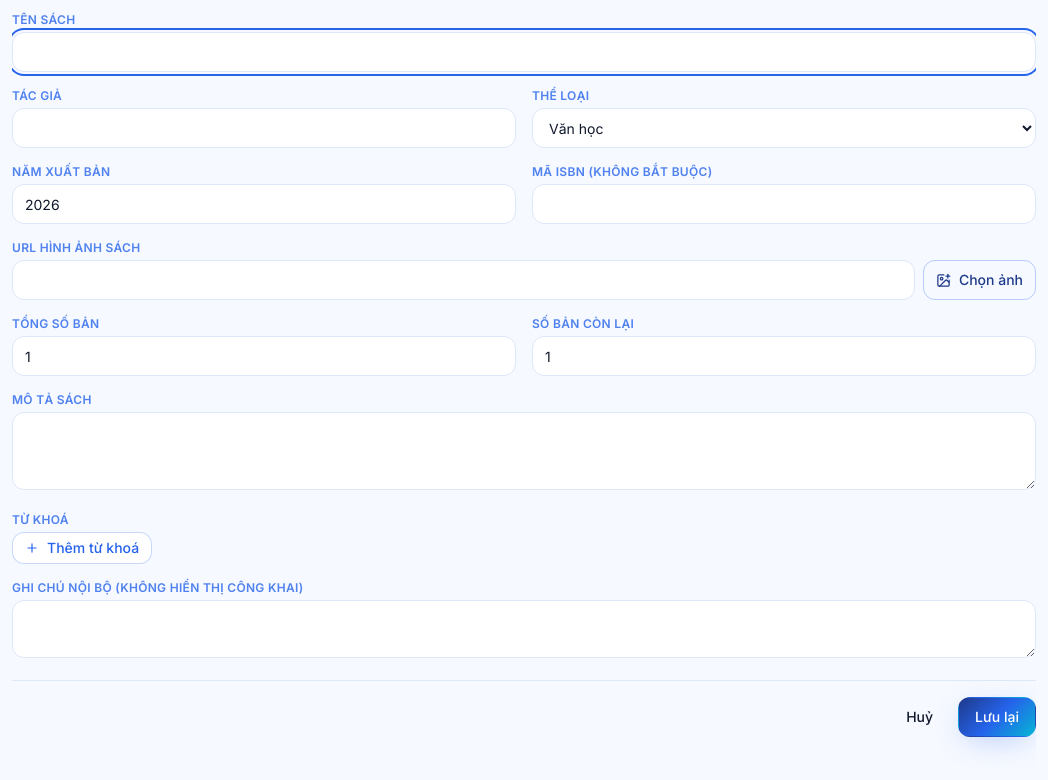
it: BookForm › shows validation errors when required fields are empty
The image size is (1048, 780).
Step 1. Clear the field labelled "Tác giả" → (264, 128), box [12,108,516,148]
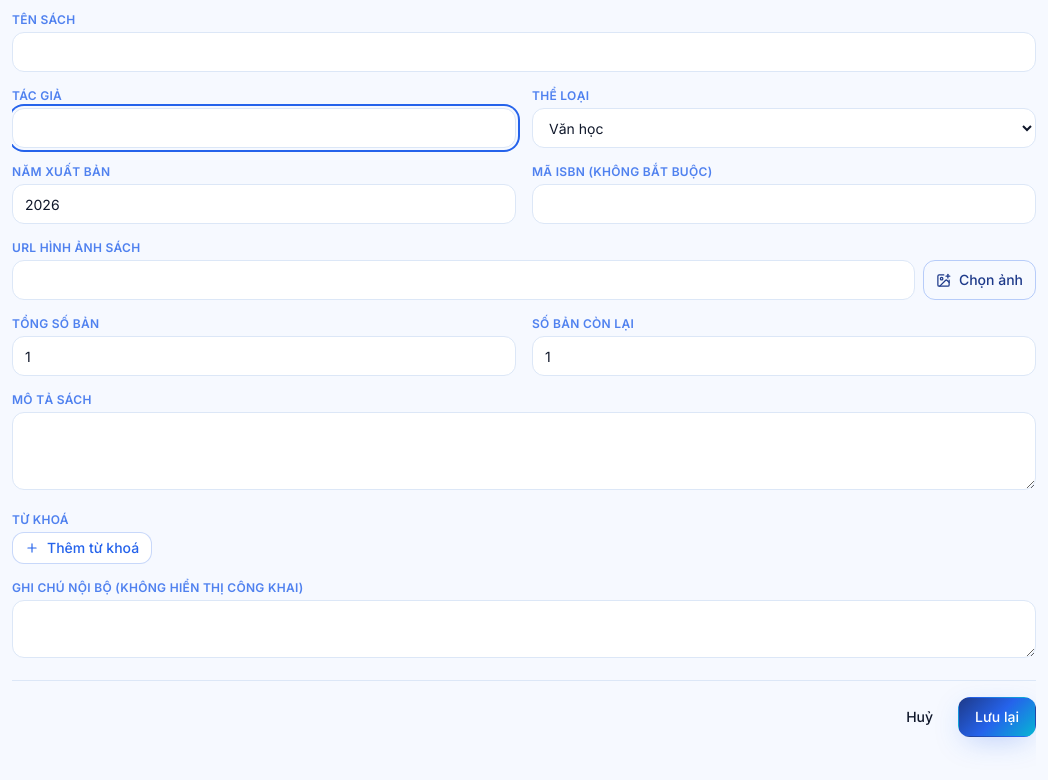
Step 2. Click the button "Lưu lại" → click(997, 717), box [958,697,1036,737]
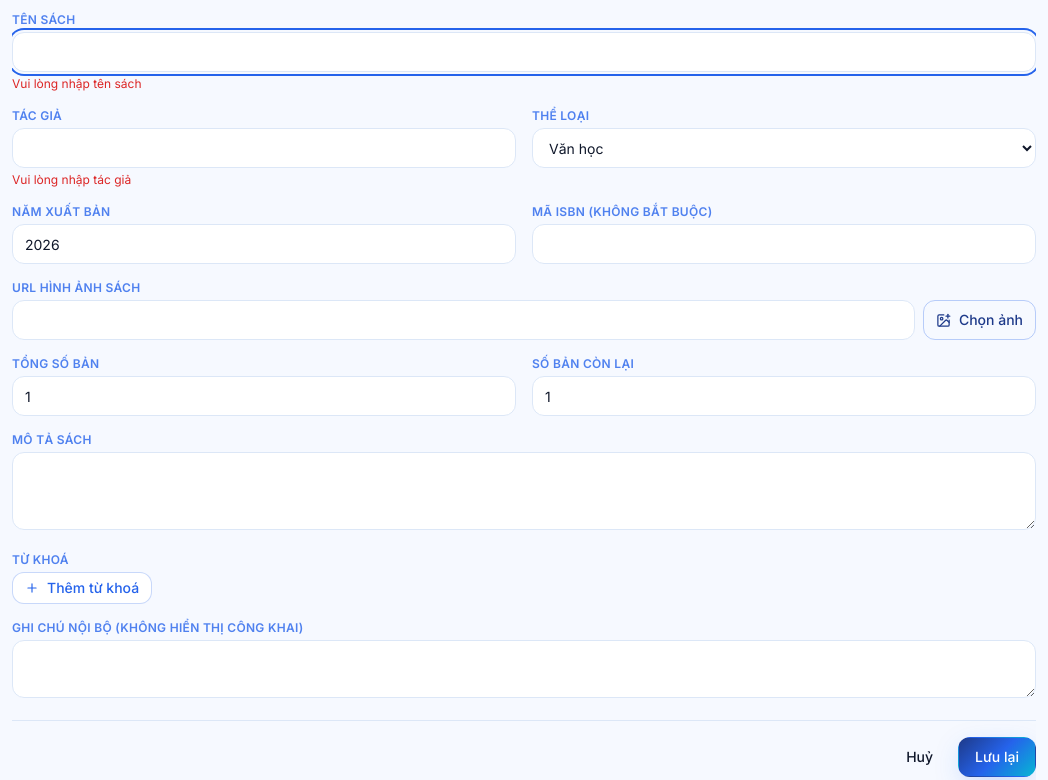
Check: the text "Vui lòng nhập tên sách" is shown, box [12,76,142,91]
Check: the text "Vui lòng nhập tác giả" is shown, box [12,172,131,187]
